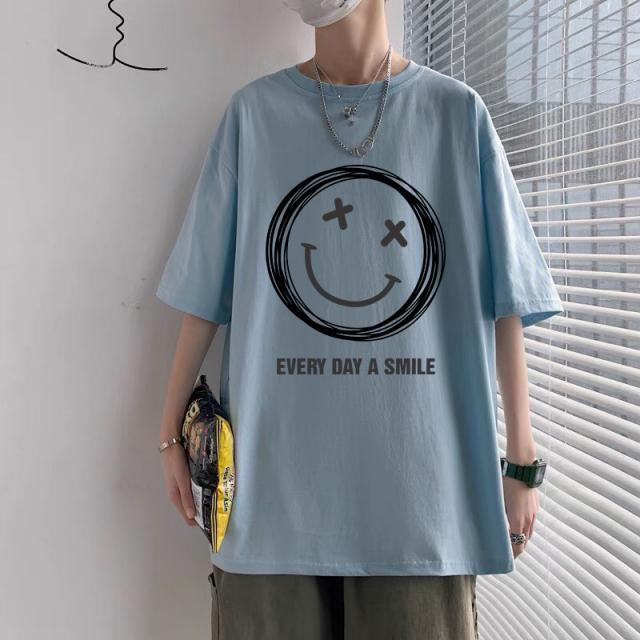Shirt: (152, 55, 570, 582)
